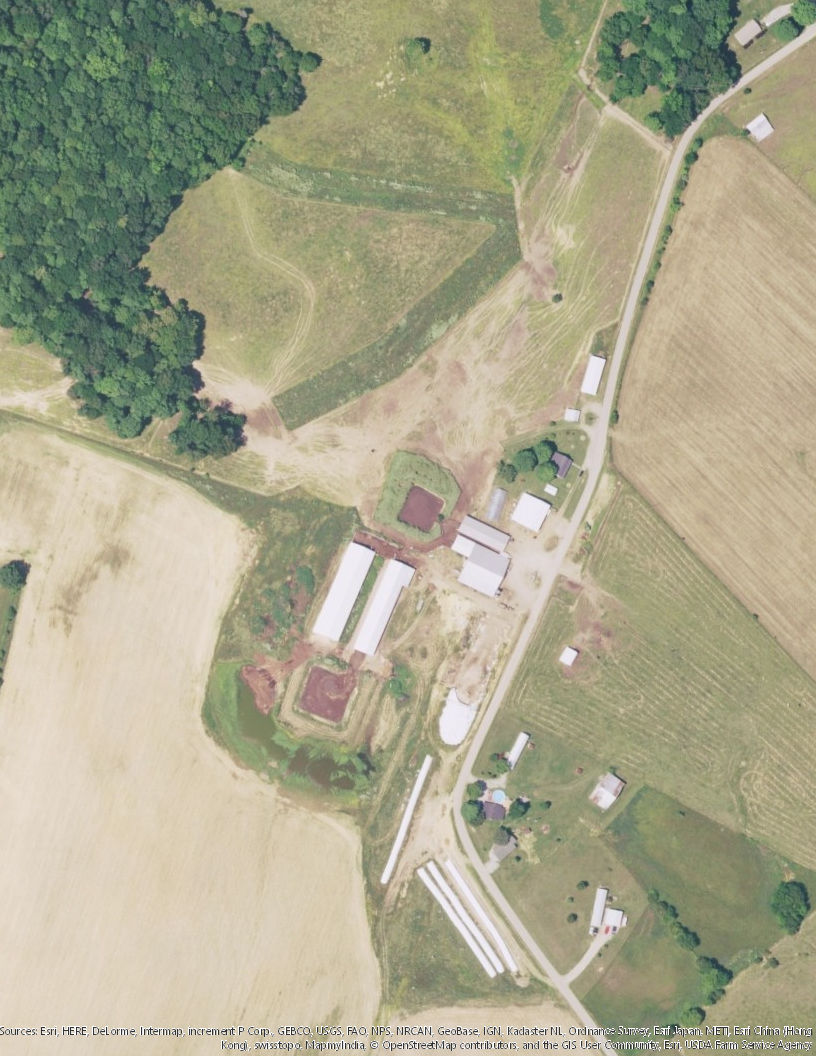cafo: (307, 539, 375, 651), (449, 508, 517, 605), (357, 551, 411, 659)
